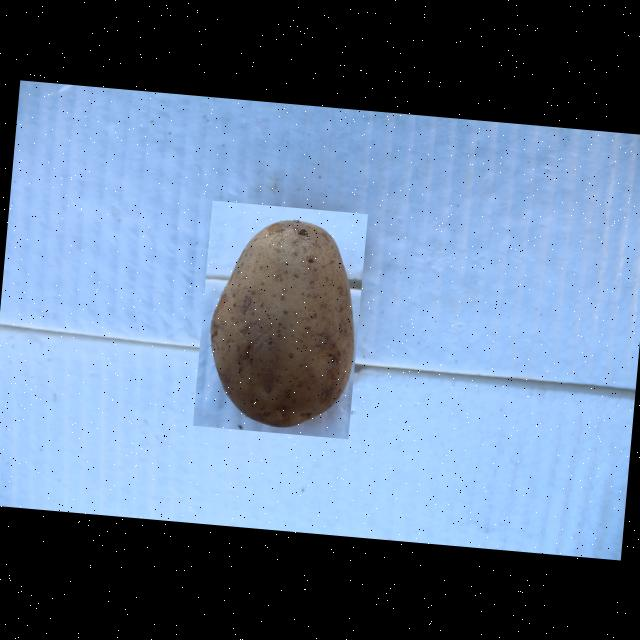Diseased-fungal potato: (192, 200, 368, 439)
